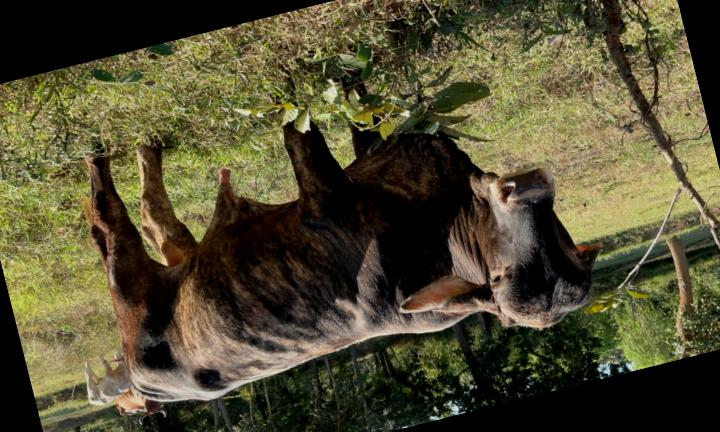Charolais: (87, 123, 600, 401), (87, 124, 600, 401)
